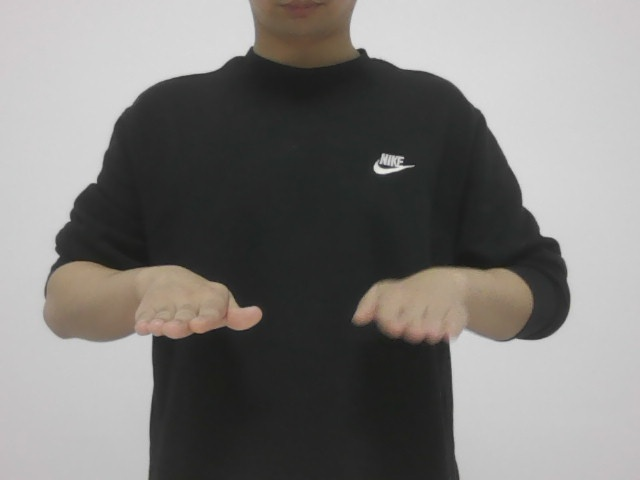flat: (125, 239, 476, 358)
